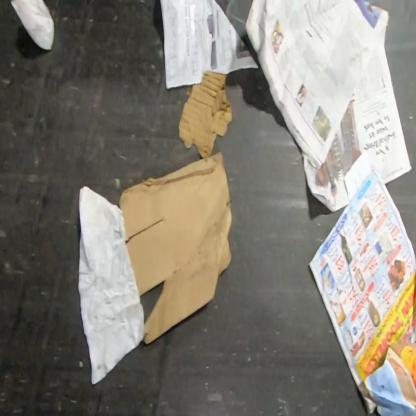cardboard: (118, 151, 233, 346), (178, 70, 233, 161)
soft_plastic: (10, 0, 55, 51)
